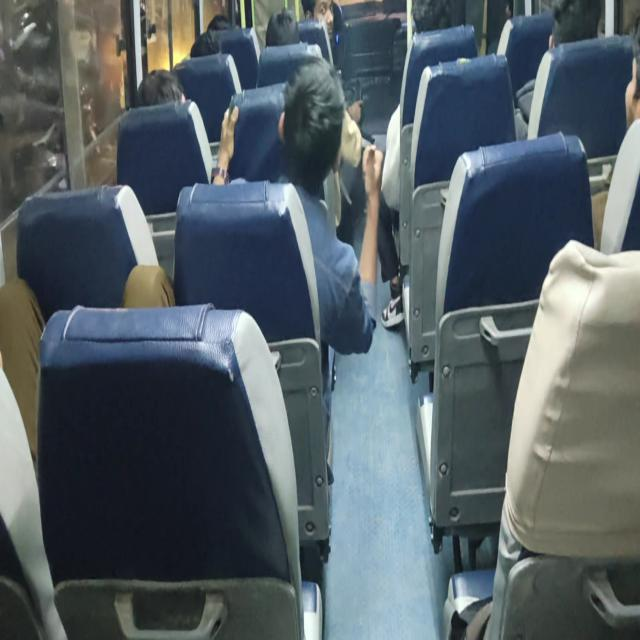person: (211, 57, 383, 479), (593, 15, 640, 254), (301, 0, 344, 67), (137, 68, 186, 106)
